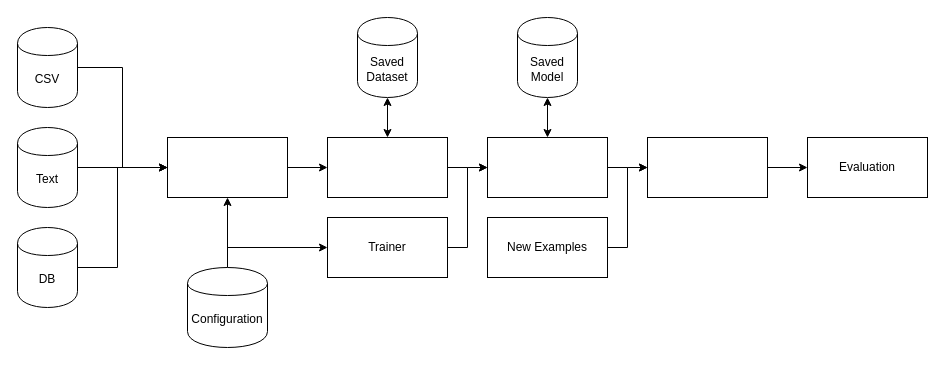
Some shapes in this 945 by 365 pixel diagram are drawn without their labels. Here are the shapes that lost their labels. From the top down, the centre of each, then its label:
At (x=227, y=167): "DataSource".
At (x=387, y=167): "Dataset".
At (x=547, y=167): "Model".
At (x=707, y=167): "Predictions".
